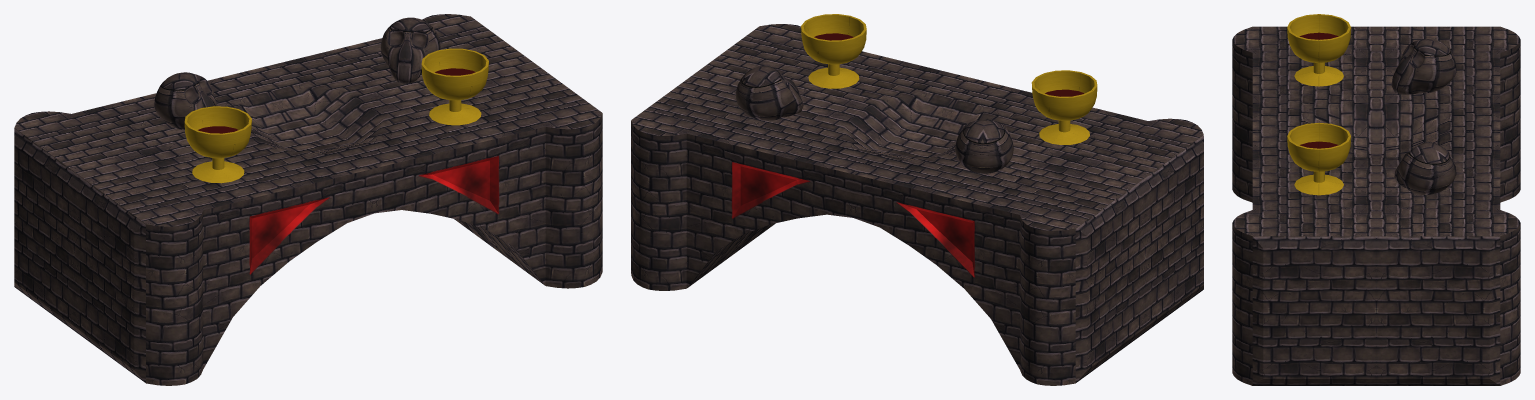
The model's file is oltarz.FBX.
3 renders of one model, left to right at view 1: azimuth 30°, elevation 25°; view 2: azimuth 150°, elevation 25°; view 3: azimuth 270°, elevation 25°, orthographic. The views are drawn at different scales.
Visible parts, largest first — view 1: oltarz, puchar, puchar001, Sphere002, Sphere001; view 2: oltarz, puchar, puchar001, Sphere002, Sphere001; view 3: oltarz, puchar, puchar001, Sphere001, Sphere002.
Boxes of the visible parts, box(x1,y1,x2,y2) form: oltarz: box(14, 14, 602, 385); puchar: box(421, 48, 488, 125); puchar001: box(184, 106, 251, 183); Sphere002: box(380, 17, 440, 83); Sphere001: box(154, 72, 217, 129); oltarz: box(631, 24, 1203, 385); puchar: box(801, 14, 866, 88); puchar001: box(1031, 70, 1097, 144); Sphere002: box(736, 65, 803, 120); Sphere001: box(955, 120, 1013, 173); oltarz: box(1232, 26, 1520, 385); puchar: box(1287, 122, 1351, 195); puchar001: box(1287, 14, 1351, 86); Sphere001: box(1391, 39, 1456, 94); Sphere002: box(1394, 141, 1456, 194).
Size of the model in its own units: 61.56 by 26.49 by 34.89.
1 material, 1 textured.
